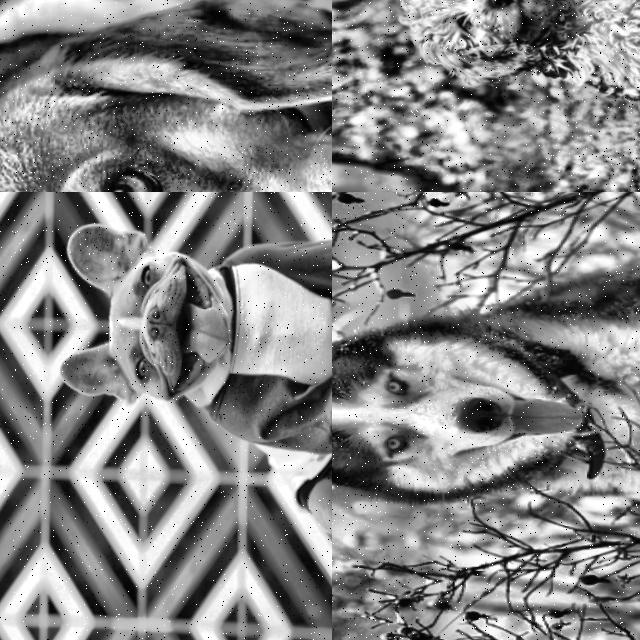beagle: (0, 0, 332, 192)
bulldog: (36, 192, 253, 429)
husky: (332, 273, 633, 522)
poodle: (362, 0, 601, 105)
